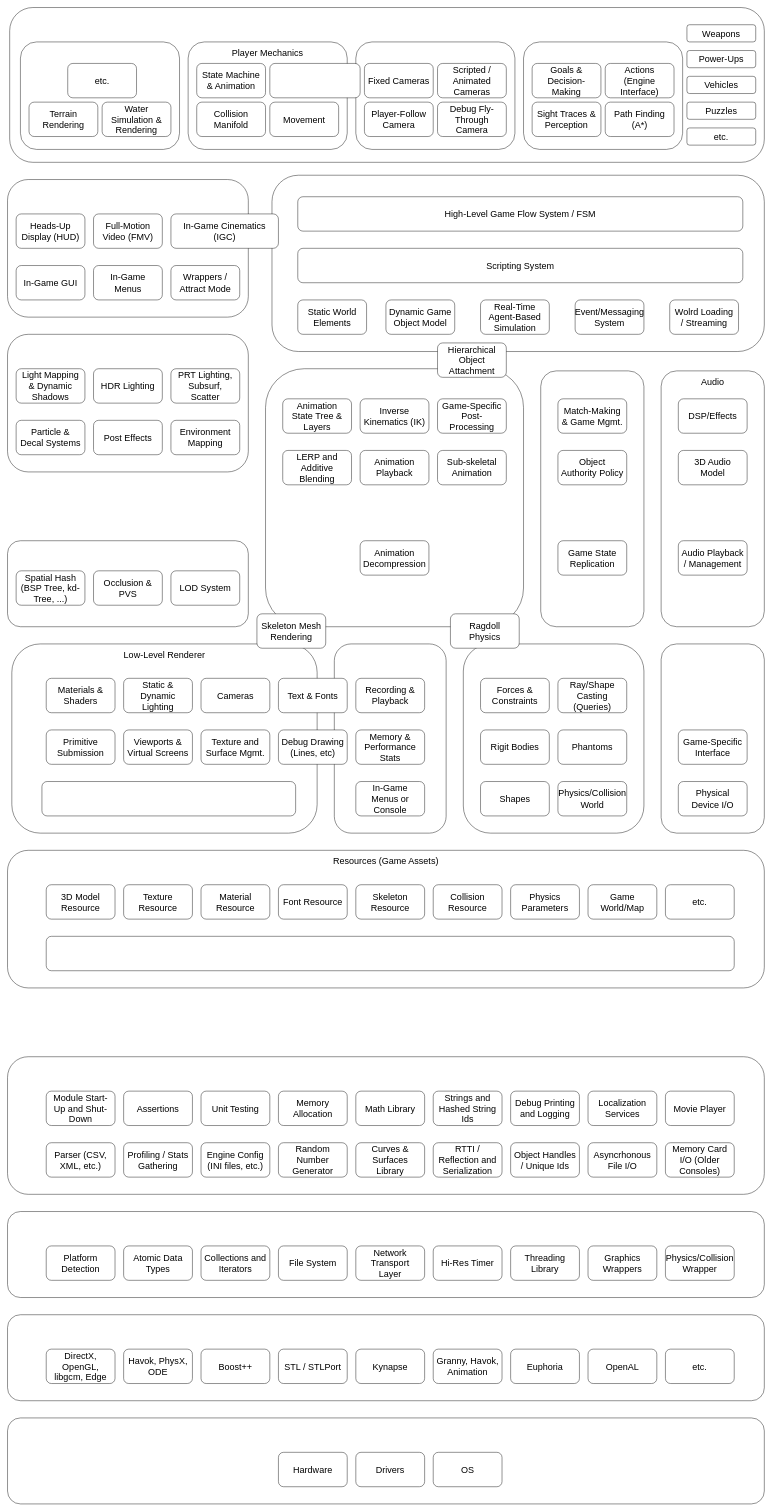
Image size: 772x1511. Some labels were removed from this diagram. The shapes that lost their labels are listed below. From the top down, each one's box as (x1, y1, x2, y2) in pixels, then its label:
(20, 41, 180, 149): Game-Specific Rendering
(269, 63, 360, 98): Camera-Relative Controls (HID)
(9, 7, 764, 162): GAME-SPECIFIC SUBSYSTEMS
(355, 41, 515, 149): Game Cameras
(523, 41, 683, 149): AI
(7, 179, 248, 317): Front End
(272, 175, 764, 352): Gameplay Foundations
(7, 334, 248, 472): Visual Effects
(265, 368, 524, 627): Sceletal Animation
(540, 370, 644, 627): Online Multiplayer
(7, 540, 248, 627): Scene Graph / Culling Optimizations
(334, 643, 446, 833): Profiling & Debugging
(463, 643, 644, 833): Collision & Physics
(661, 643, 764, 833): Human Interface Devices (HID)
(41, 781, 296, 816): Graphics Device Interface
(46, 936, 734, 971): Resource Manager
(7, 1056, 764, 1194): Core Systems
(7, 1211, 764, 1298): Platform Independence Layer
(7, 1314, 764, 1401): 3rd Party SDKs
(7, 1417, 764, 1504): Hardware Abstraction Layer
